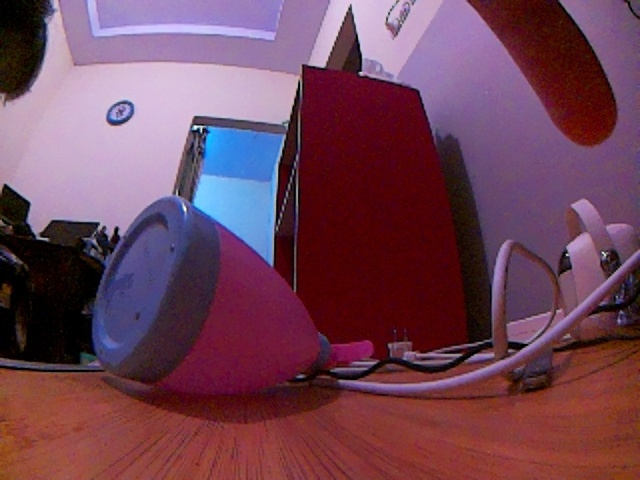korban: (81, 200, 373, 416)
